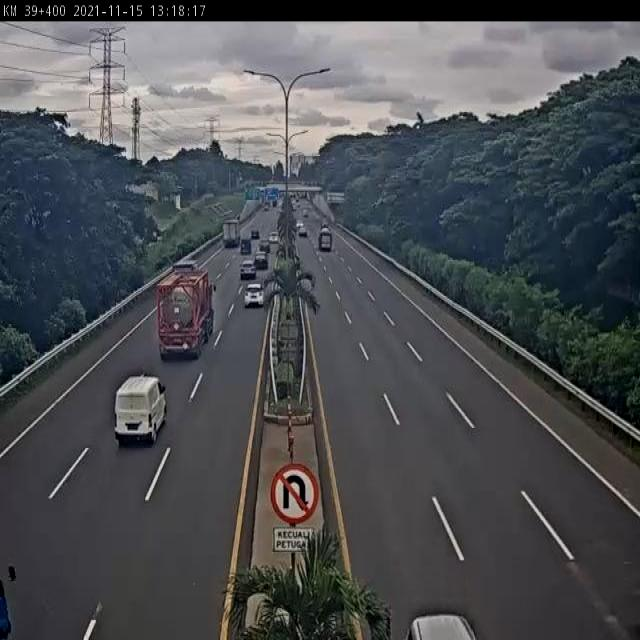Car: (113, 374, 166, 446), (244, 283, 265, 308), (318, 226, 332, 251), (240, 260, 256, 280), (254, 251, 266, 268), (240, 238, 252, 255), (258, 239, 270, 253), (268, 231, 278, 245), (284, 193, 294, 204), (296, 221, 304, 234), (251, 230, 259, 239), (289, 220, 296, 230), (278, 201, 284, 211), (300, 192, 307, 200), (308, 194, 315, 202), (263, 204, 269, 212), (303, 210, 309, 217), (272, 199, 277, 207), (266, 197, 271, 204)
Truck: (156, 263, 214, 361), (222, 218, 240, 248)
